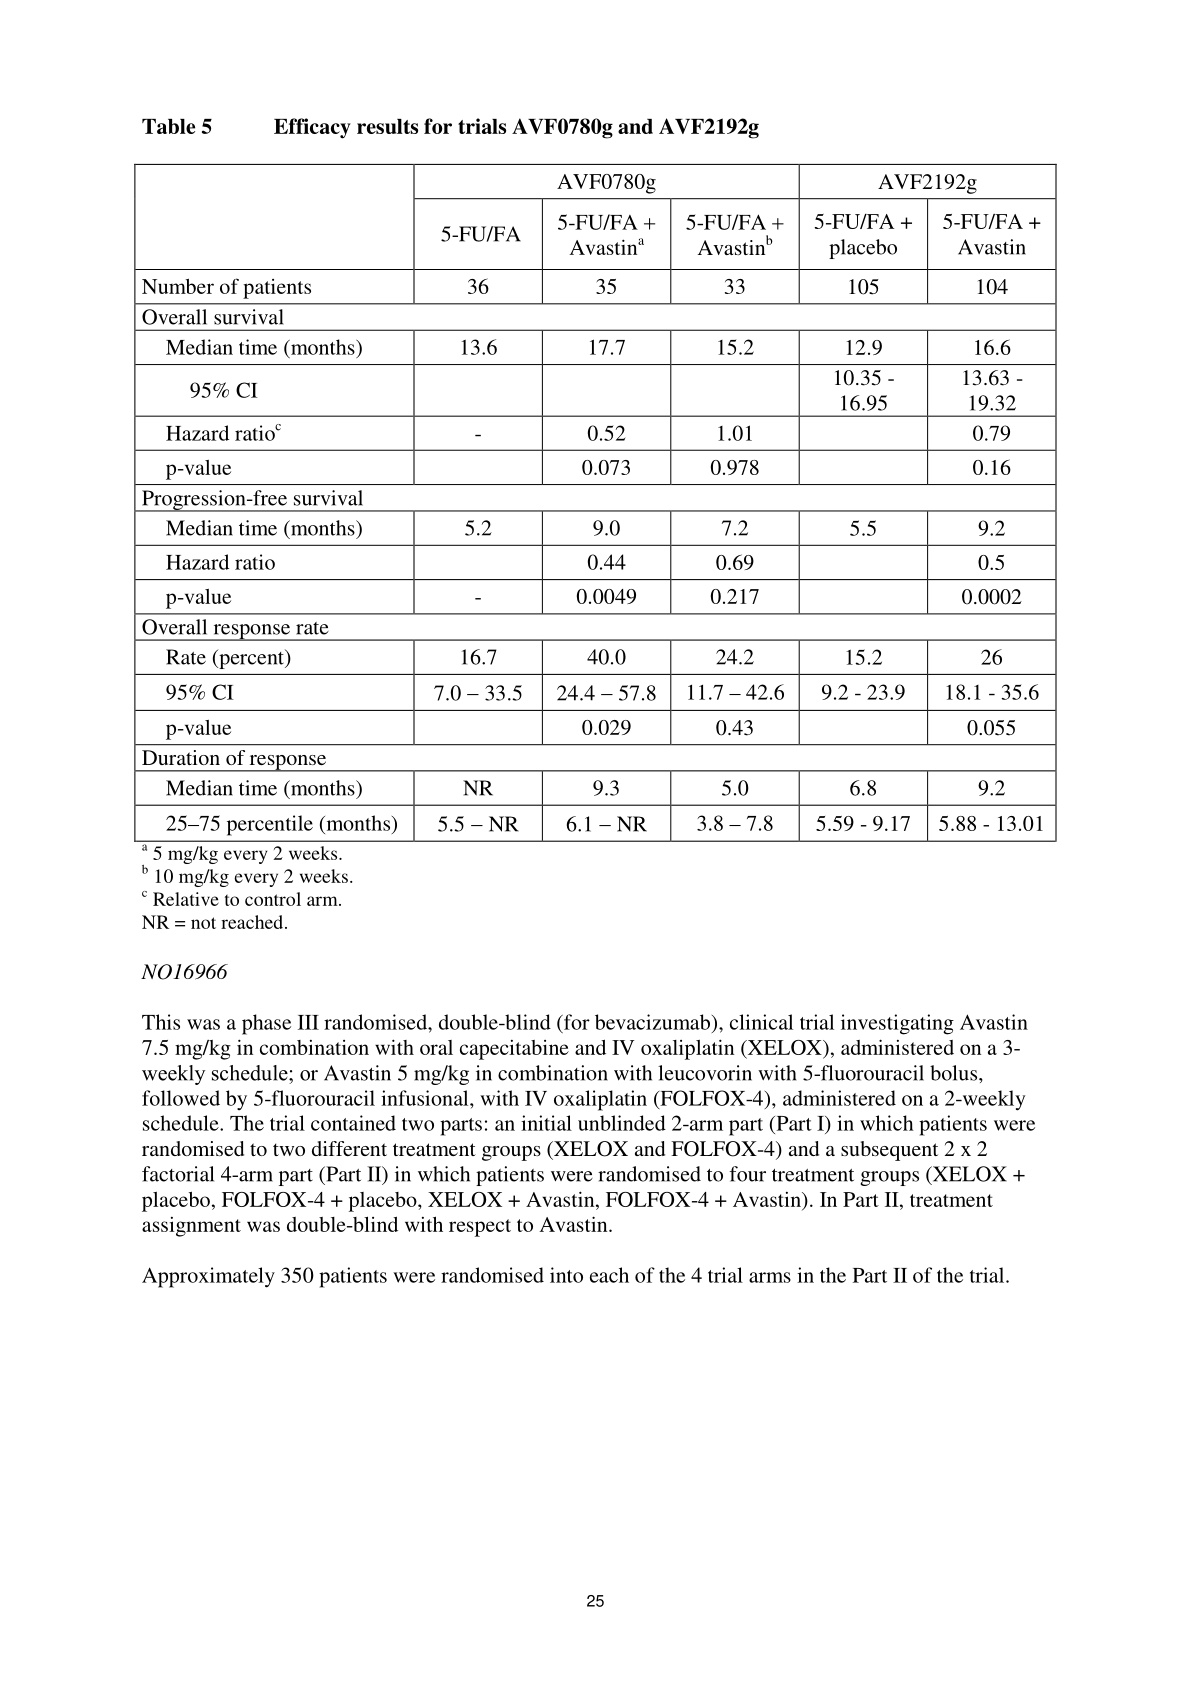merged_cells: (131, 162, 1057, 843)
